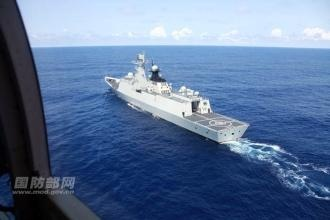warship: (104, 51, 253, 138)
